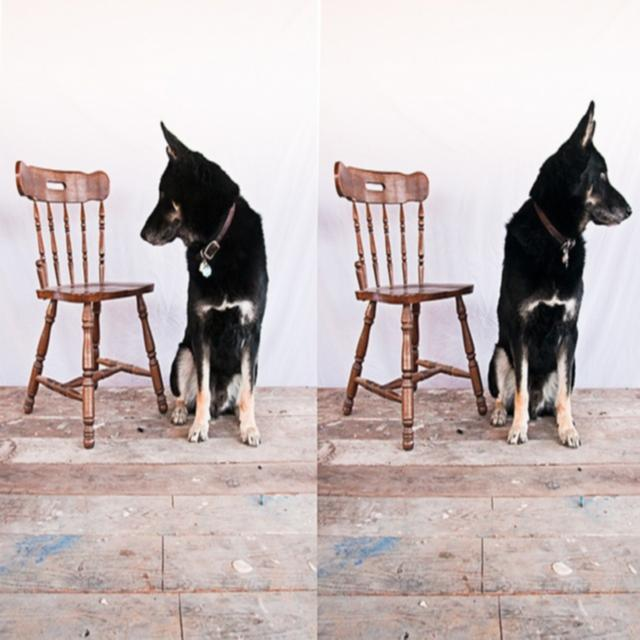dog: (486, 105, 629, 448), (141, 118, 268, 446)
